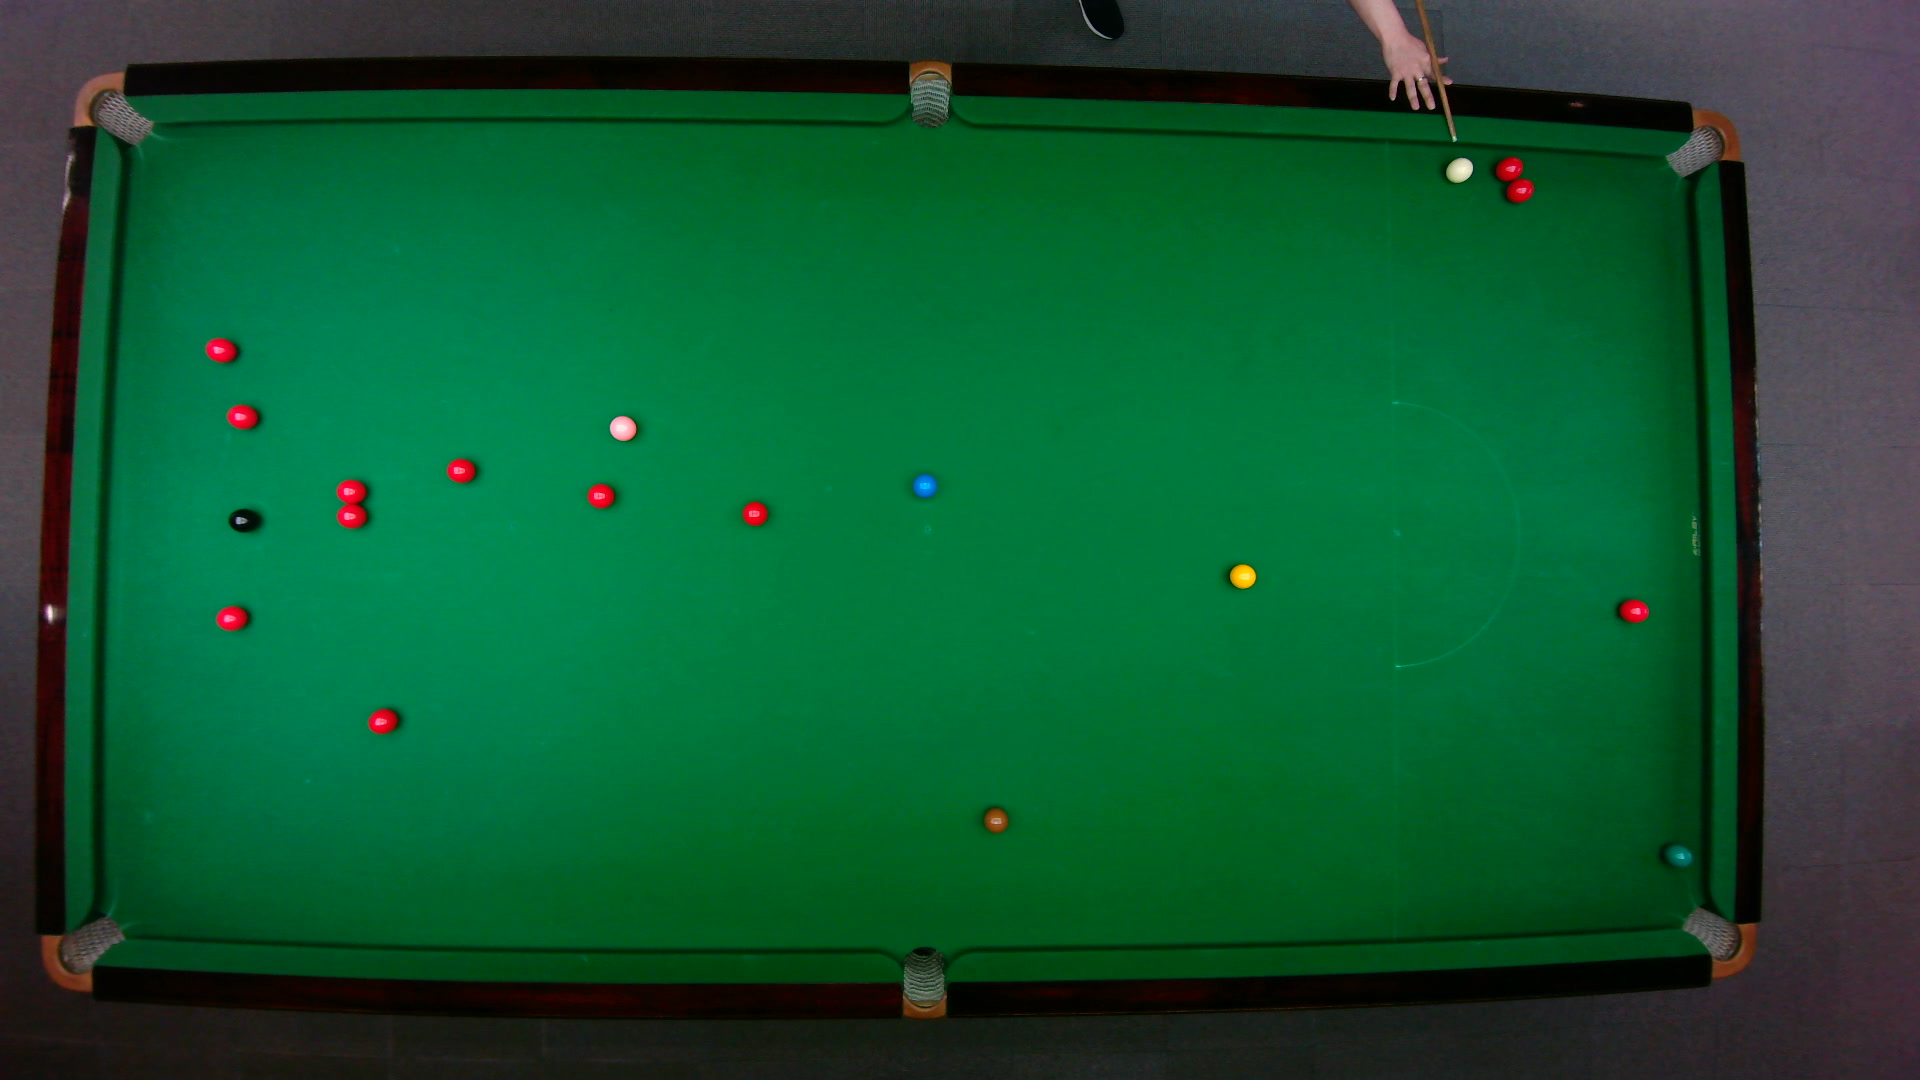bag: (40, 914, 127, 993), (71, 71, 154, 146), (1679, 905, 1758, 978), (1663, 108, 1741, 179), (902, 945, 945, 1021), (910, 59, 951, 131)
black: (227, 506, 260, 533)
blue: (911, 473, 938, 498)
brown: (982, 806, 1010, 833)
cue: (1414, 0, 1458, 142)
green: (1662, 843, 1695, 869)
pink: (608, 414, 638, 443)
red: (367, 707, 400, 736), (444, 458, 477, 485), (204, 336, 237, 364), (215, 605, 249, 632), (1505, 177, 1536, 204), (335, 477, 368, 504), (335, 504, 368, 530), (225, 404, 258, 430), (585, 483, 616, 510), (1618, 597, 1650, 624), (1495, 156, 1524, 183), (741, 500, 769, 527)
white: (1444, 156, 1474, 185)
yellow: (1228, 563, 1257, 589)
zone: (1391, 400, 1519, 669)
